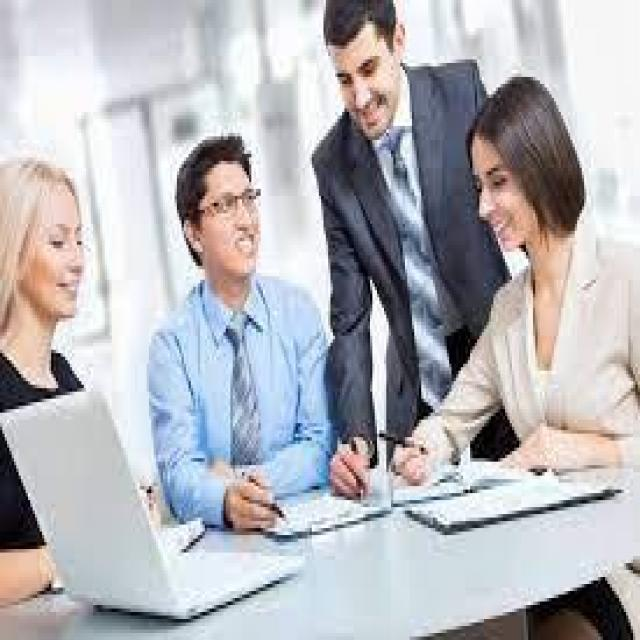person: (391, 42, 638, 514), (296, 0, 487, 490), (140, 112, 330, 531), (0, 157, 135, 577)
